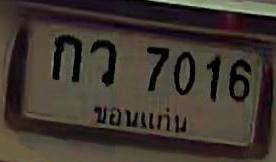number: (44, 22, 255, 105)
province: (88, 99, 189, 139)
